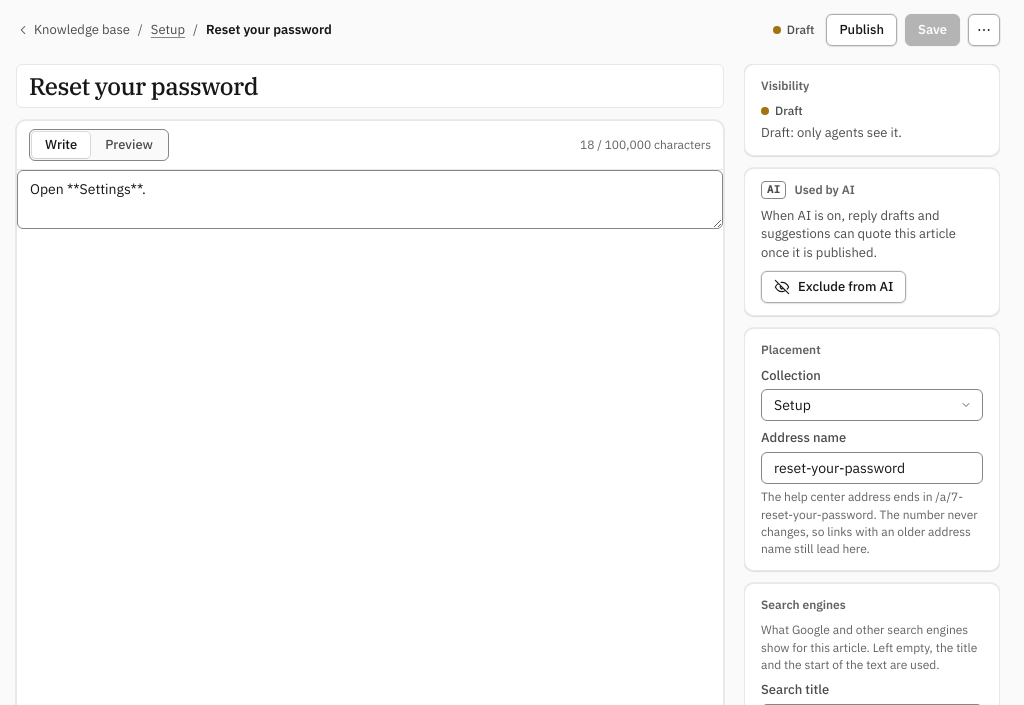
Test: discarding mine shows their version
Replace the text in the text box named "Text (Markdown)" with "My text" at (370, 199), box [17,170,723,229]
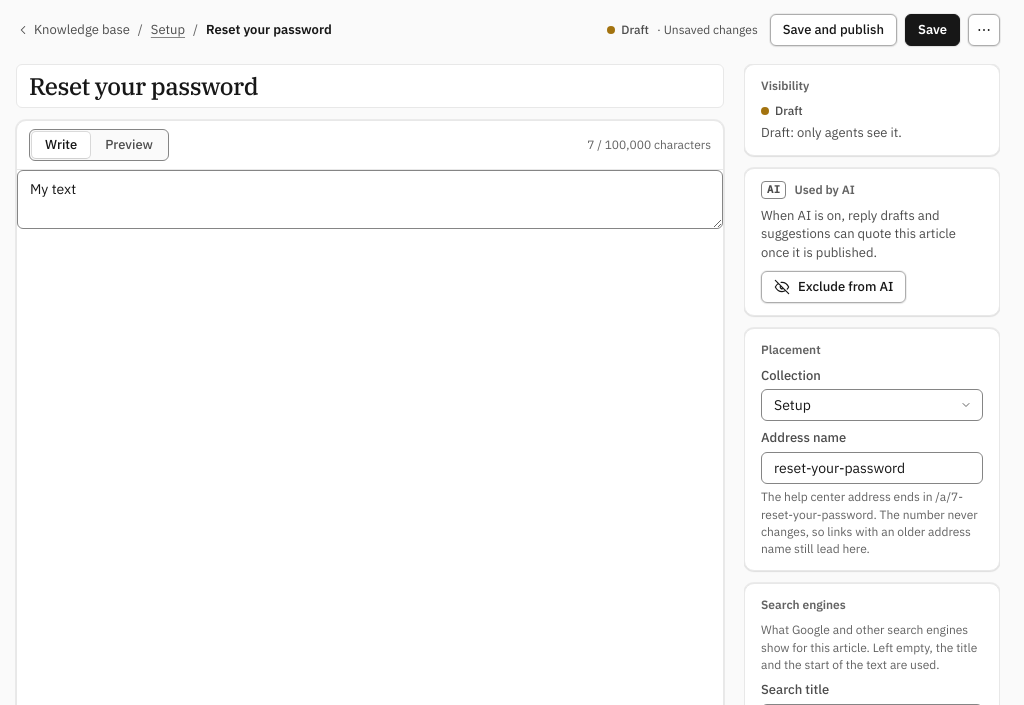
Click the button "Save" at (932, 30), box [905,14,960,46]
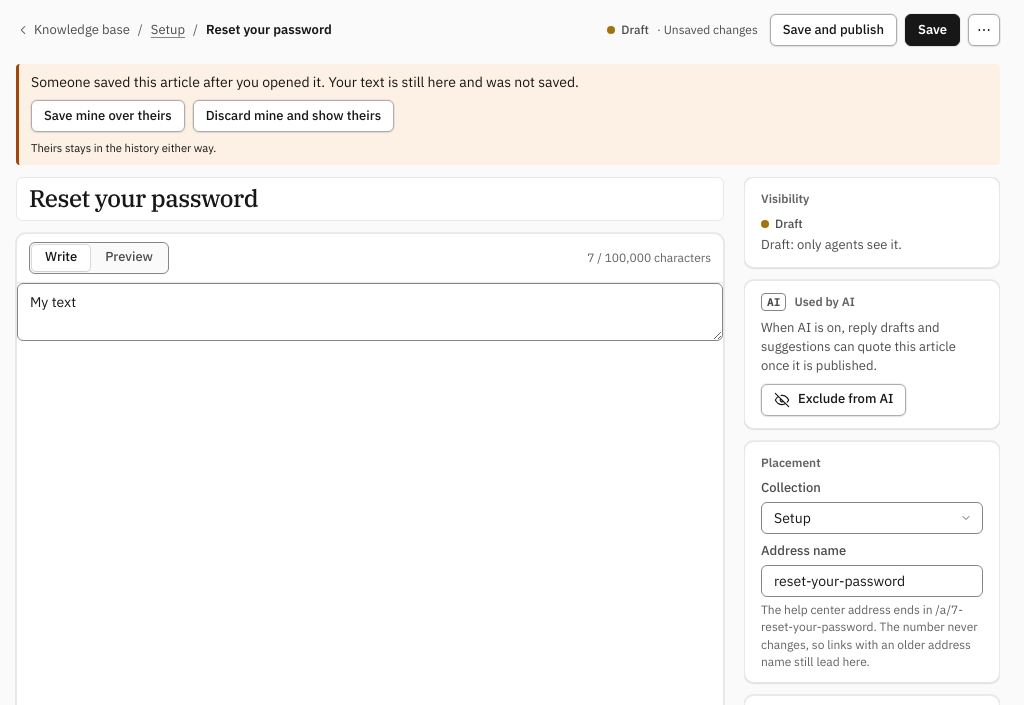
Click the button "Discard mine and show theirs" at (293, 116), box [193,100,394,132]
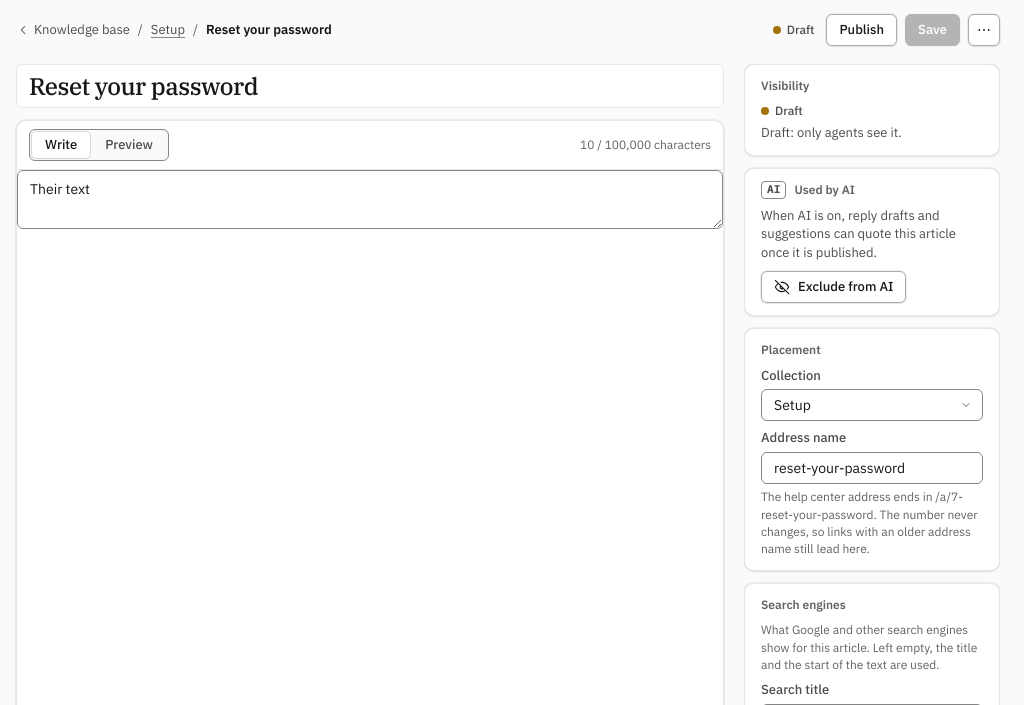
Check: the text box named "Text (Markdown)" holds "Their text", box [17,170,723,229]
